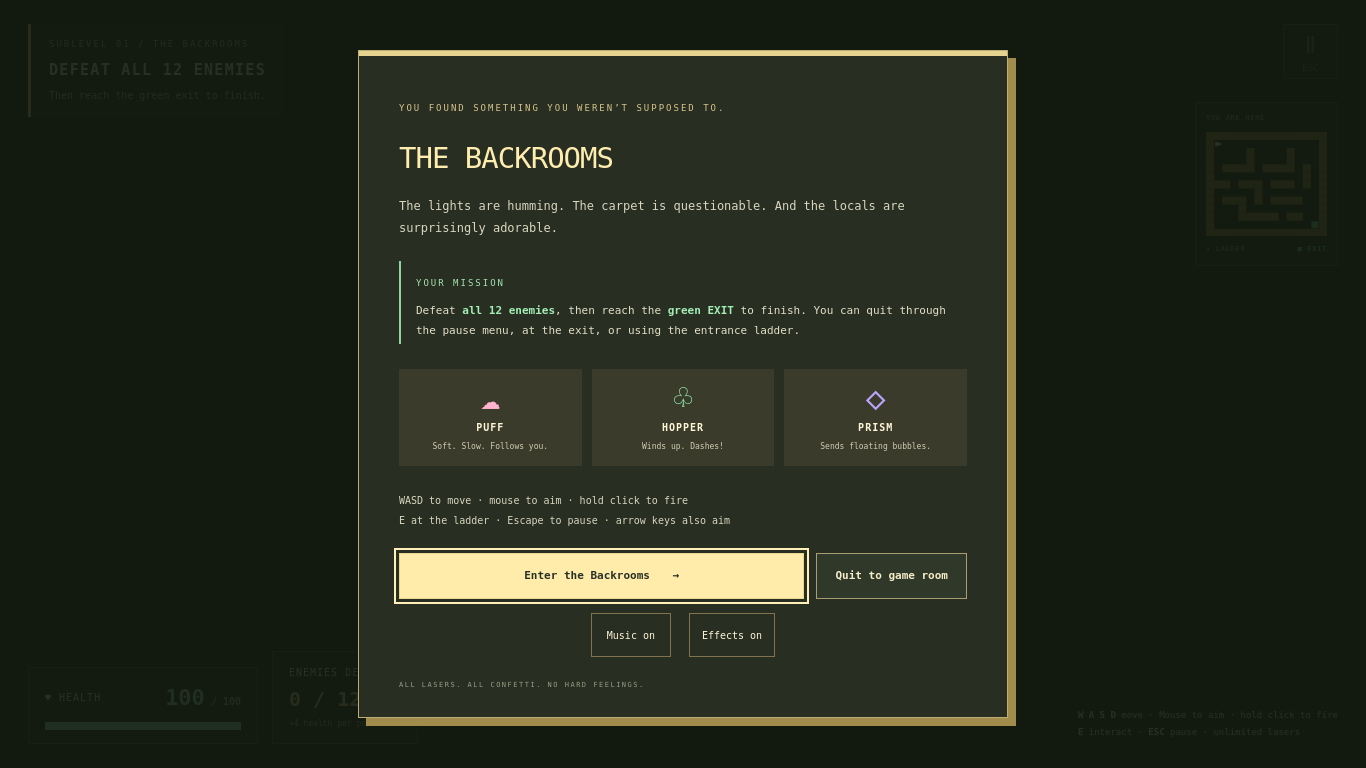
Test: Backrooms lifecycle › cancels animation when the tab becomes hidden
What coordinates should you click on to do the following:
click the button "Enter the Backrooms →"
I would click on:
 (602, 576)
Its box is [399, 552, 804, 599].
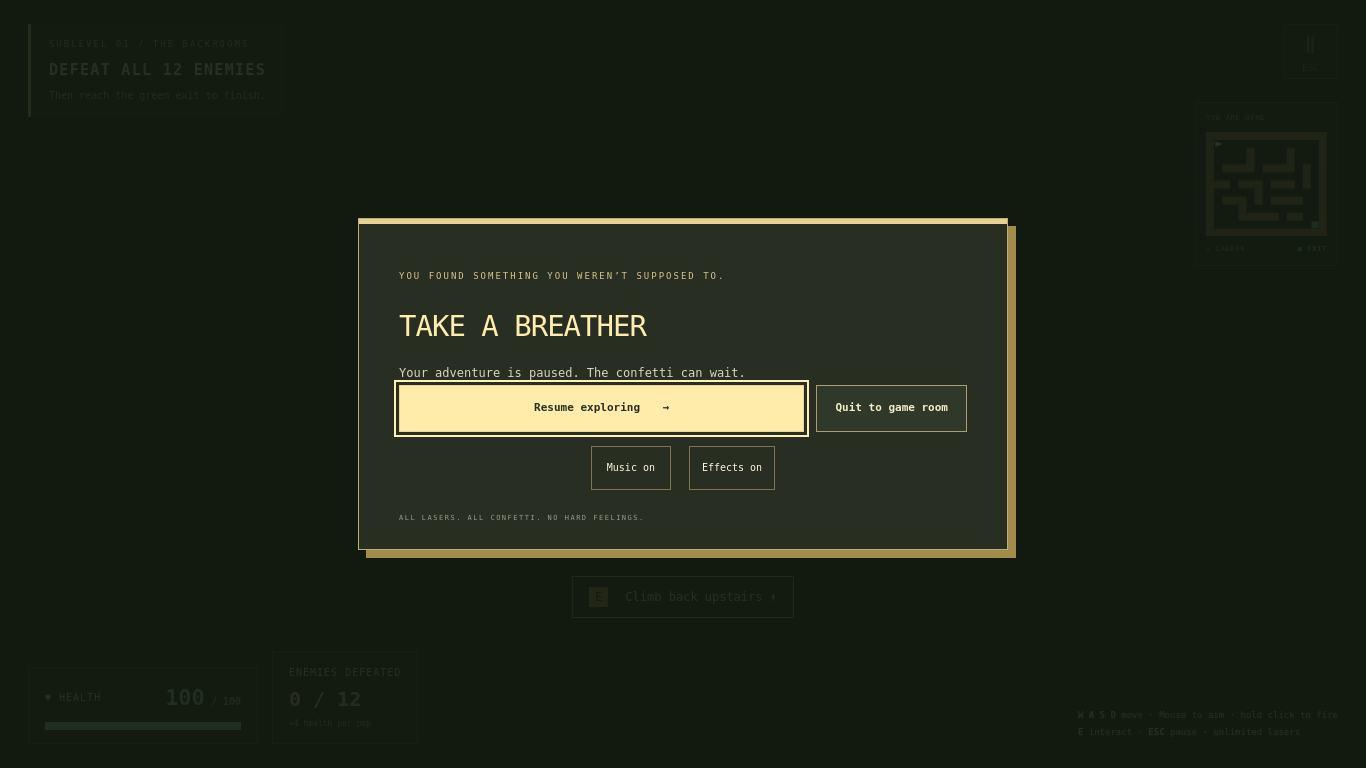
Expected: the heading "TAKE A BREATHER" is shown, [399, 309, 646, 343]
